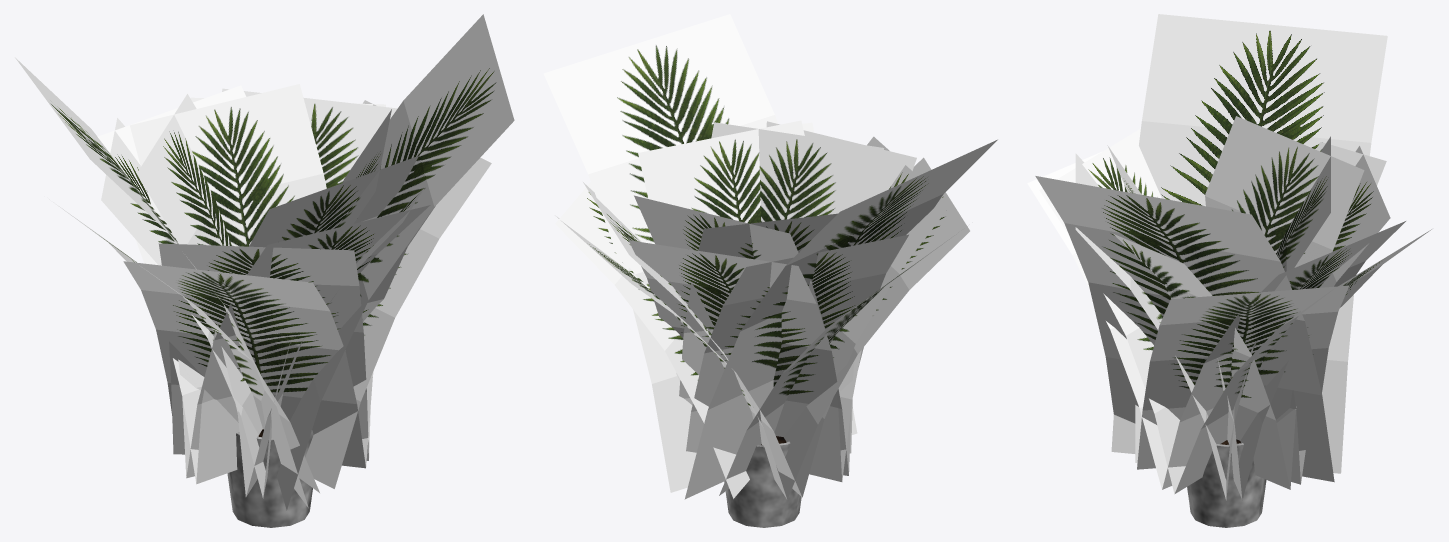
Rendered from plant_8.glb.
3 renders of one model, left to right at view 1: azimuth 30°, elevation 25°; view 2: azimuth 150°, elevation 25°; view 3: azimuth 270°, elevation 25°, orthographic. The views are drawn at different scales.
Parts seen in each view (by area): view 1: plant_8; view 2: plant_8; view 3: plant_8.
Boxes of the visible parts, <box> form: plant_8: <box>15,14,514,527</box>; plant_8: <box>543,14,997,527</box>; plant_8: <box>1027,14,1431,527</box>.
Size of what is drawn, in the model's own units: 1.14 by 1.06 by 0.9754.
2 materials, 2 textured.
